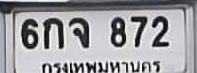2: (151, 15, 168, 46)
6: (20, 18, 37, 48)
7: (130, 15, 146, 46)
8: (110, 16, 125, 46)
A01: (43, 17, 63, 48)
A08: (68, 17, 88, 47)
BKK: (38, 57, 161, 73)
